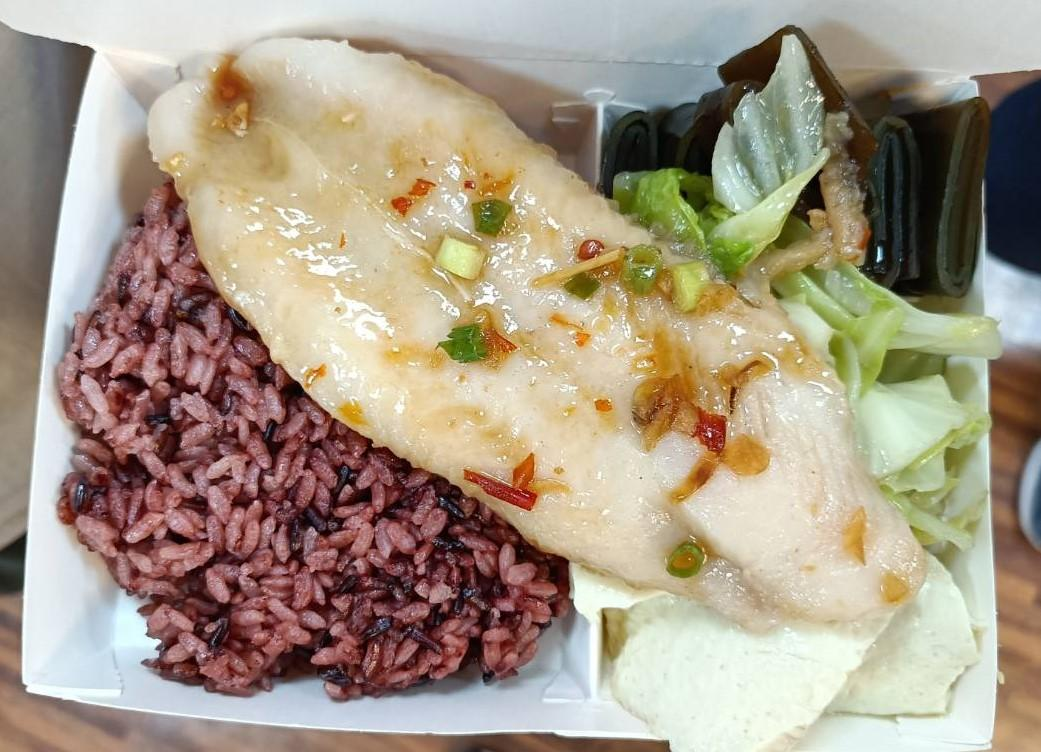big grilled chicken leg: (17, 40, 1014, 752)
braised pork ribs: (154, 45, 901, 638)
